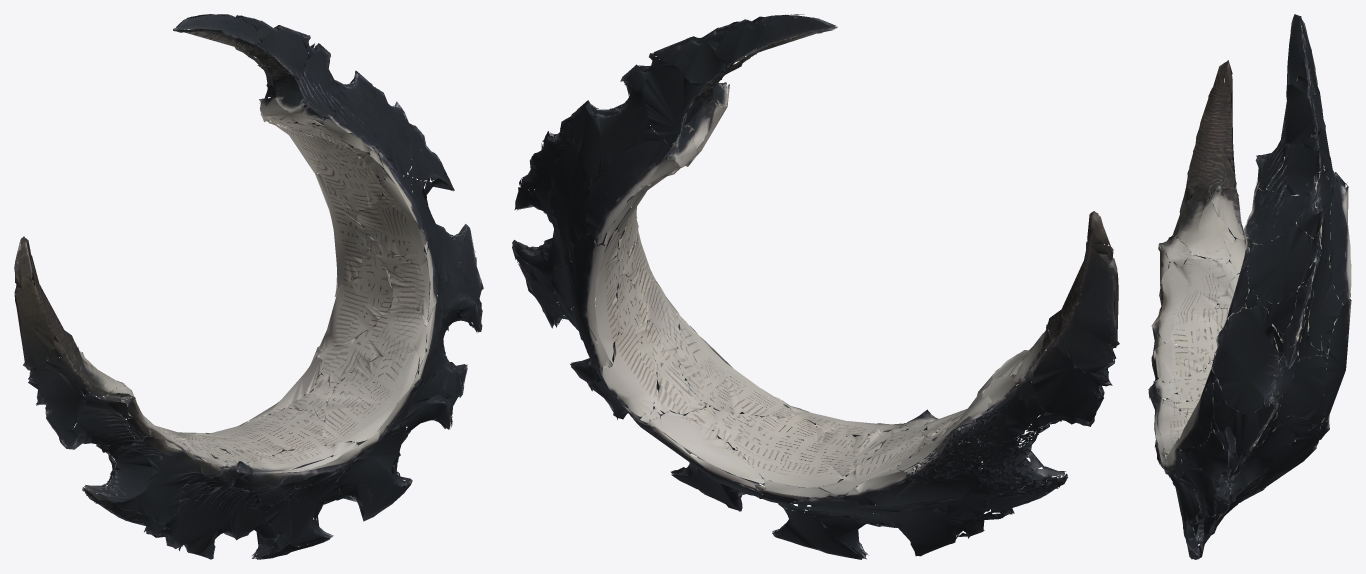
Rendered from drop_moult_shard.glb.
3 renders of one model, left to right at view 1: azimuth 30°, elevation 25°; view 2: azimuth 150°, elevation 25°; view 3: azimuth 270°, elevation 25°, orthographic. The views are drawn at different scales.
Parts seen in each view (by area): view 1: node_0; view 2: node_0; view 3: node_0.
Boxes of the visible parts, x1,y1,x2,y2 form: node_0: [14, 14, 483, 559]; node_0: [512, 14, 1119, 559]; node_0: [1148, 14, 1351, 559].
Size of the model in its own units: 1.14 by 1.13 by 0.4206.
Materials: 1 (1 with a texture image).
